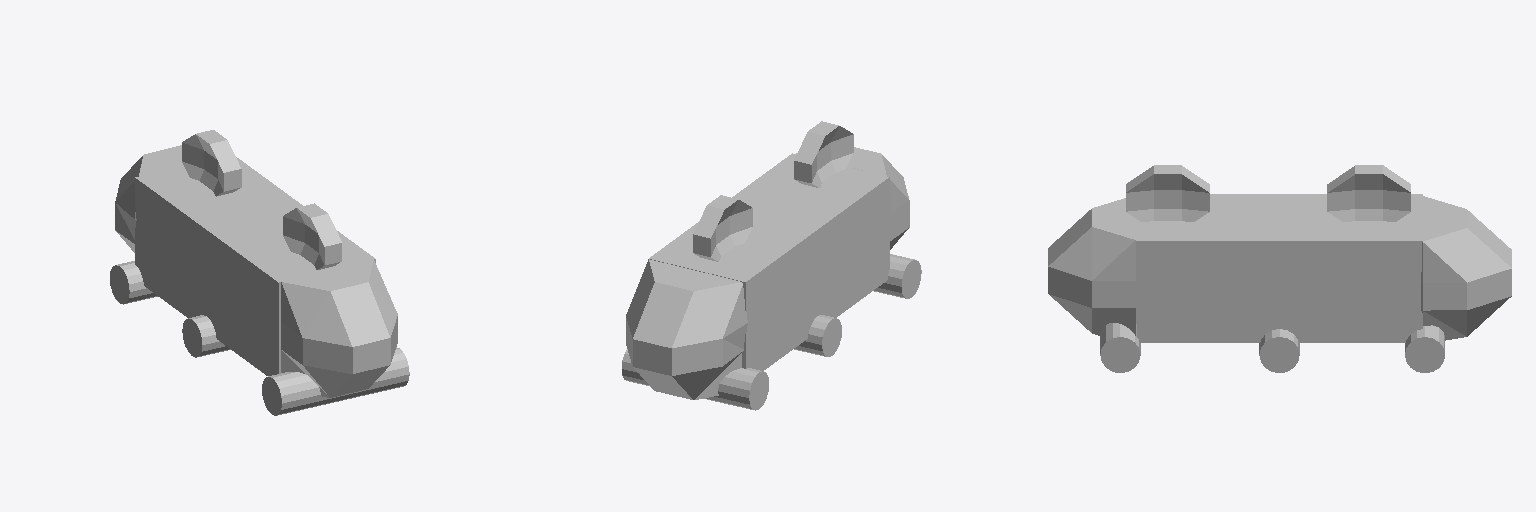
Rendered from tram3.obj.
The picture shows the model from 3 angles: view 1: azimuth 30°, elevation 25°; view 2: azimuth 150°, elevation 25°; view 3: azimuth 270°, elevation 25°; orthographic projection.
Bounding box in the file's own units: 1.48 × 1.91 × 4.64.